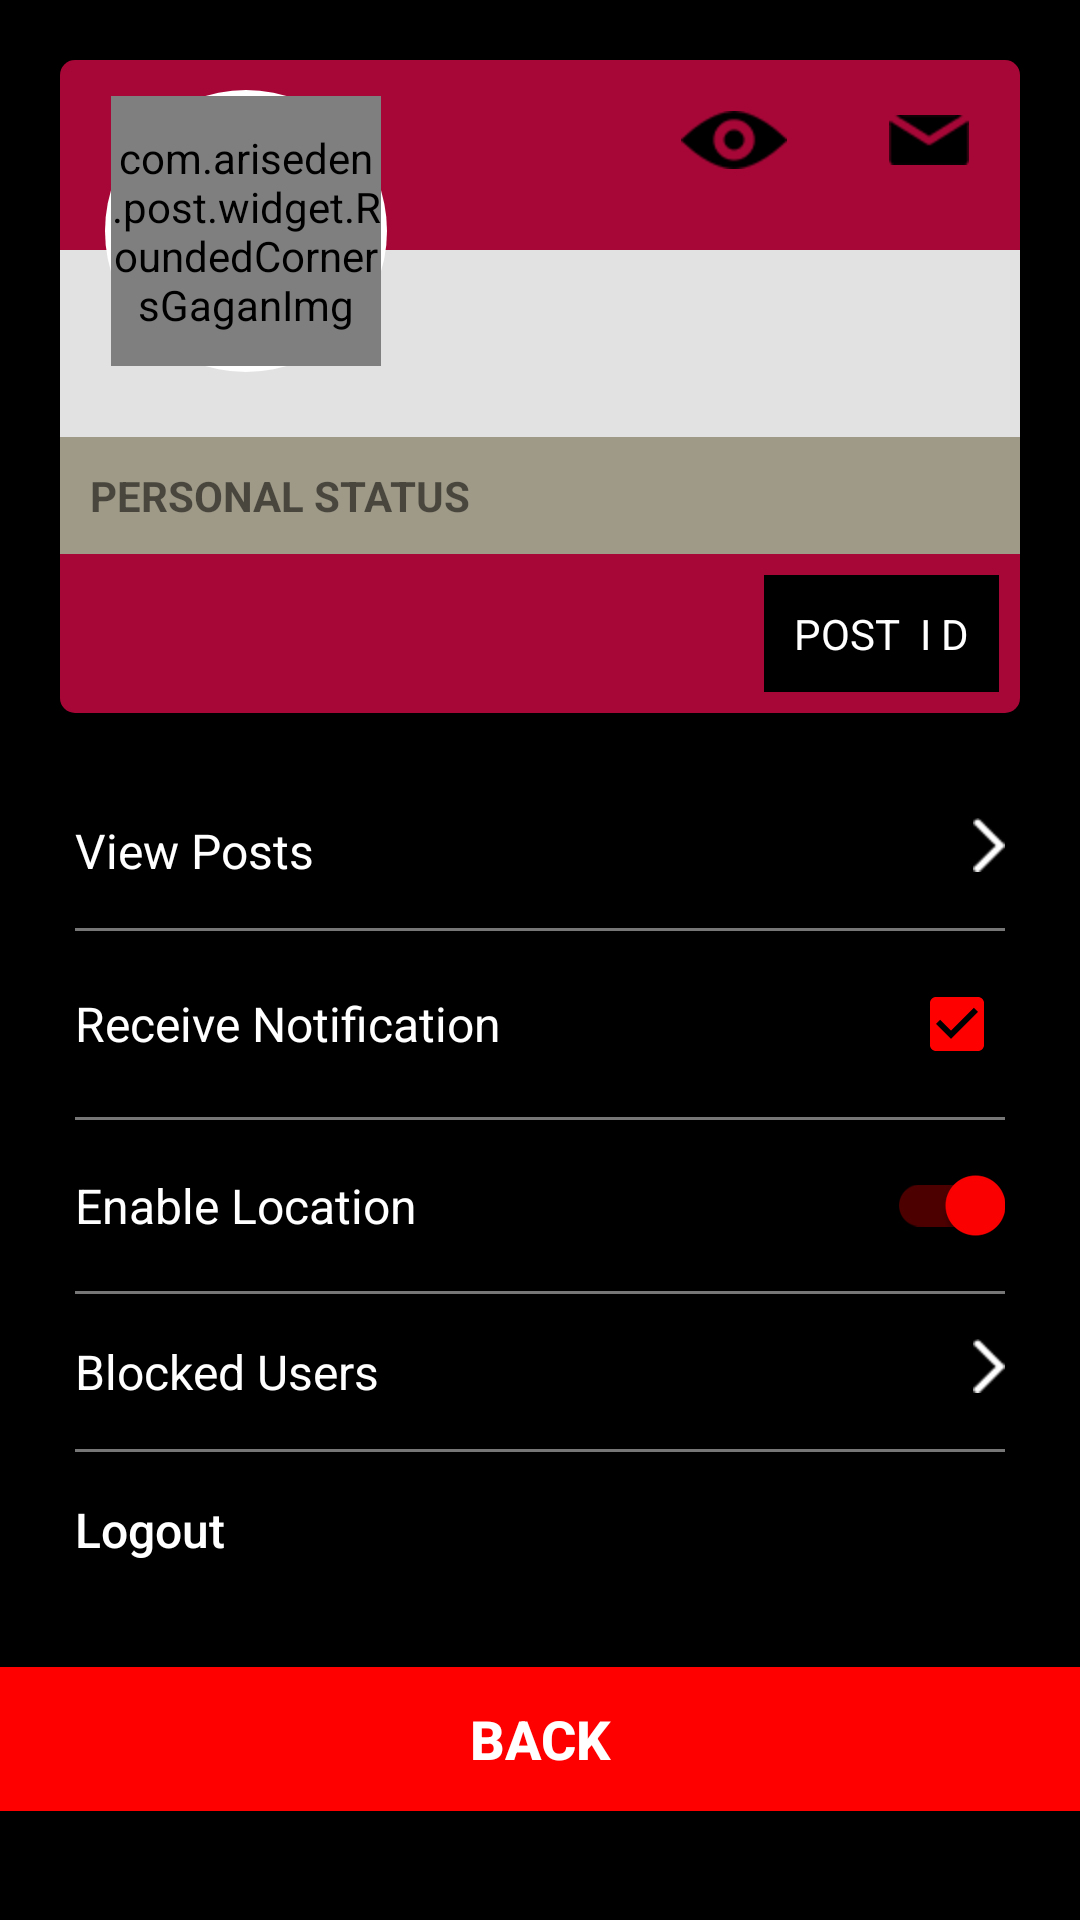

Screen size 1080 × 1920. Icon name, then its center in pixels as (x,y):
eyes: (734,140)
messageicon: (929,140)
